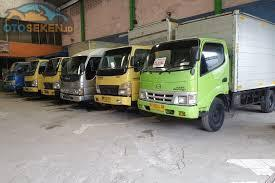truck: (137, 32, 236, 135), (93, 43, 154, 118), (59, 49, 106, 109), (40, 56, 72, 101)
